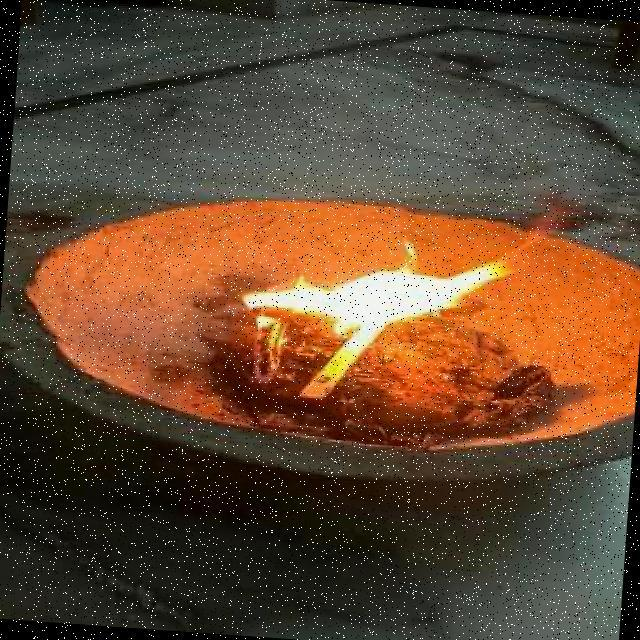Fire: (218, 186, 543, 377)
